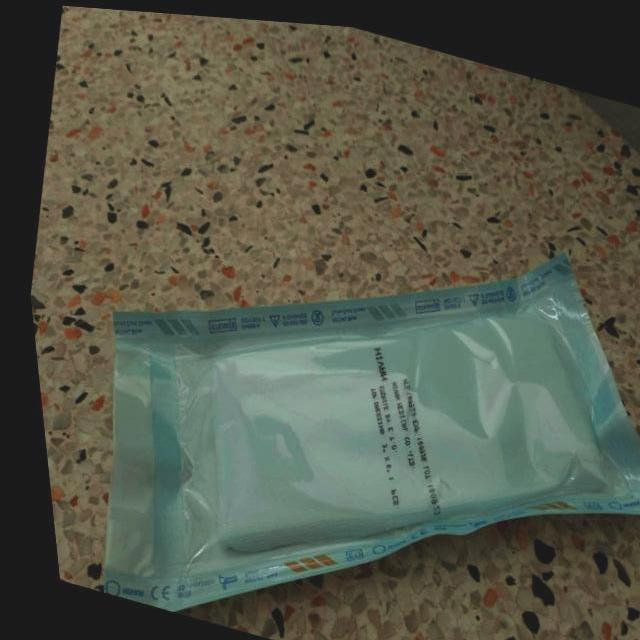Infectious: (101, 250, 639, 610)
